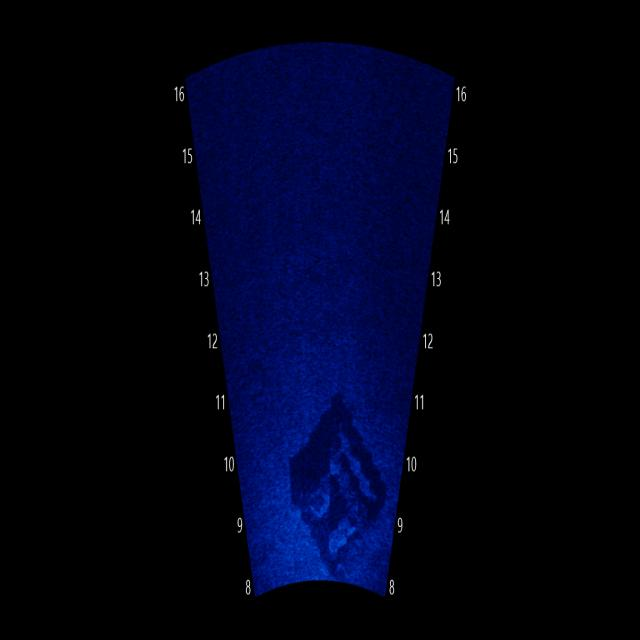square: (286, 402, 396, 587)
